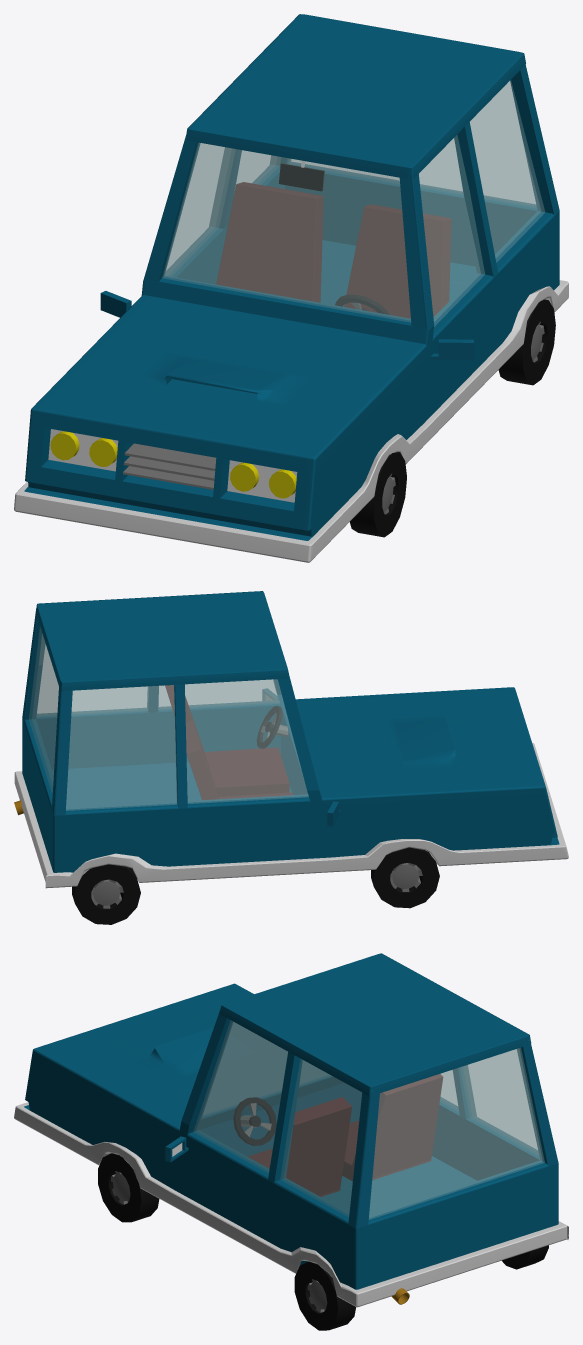
The model's file is Car.fbx.
3 views of the same model, one above another, from view 1: azimuth 30°, elevation 25°; view 2: azimuth 150°, elevation 25°; view 3: azimuth 270°, elevation 25° (orthographic). The views are drawn at different scales.
Parts seen in each view (by area): view 1: polySurface230; view 2: polySurface230; view 3: polySurface230.
Boxes of the visible parts, bbox=[...] form: polySurface230: bbox=[14, 14, 568, 562]; polySurface230: bbox=[14, 591, 568, 924]; polySurface230: bbox=[14, 953, 568, 1330].
Bounding box in the file's own units: 16.33 × 7.39 × 14.9.
